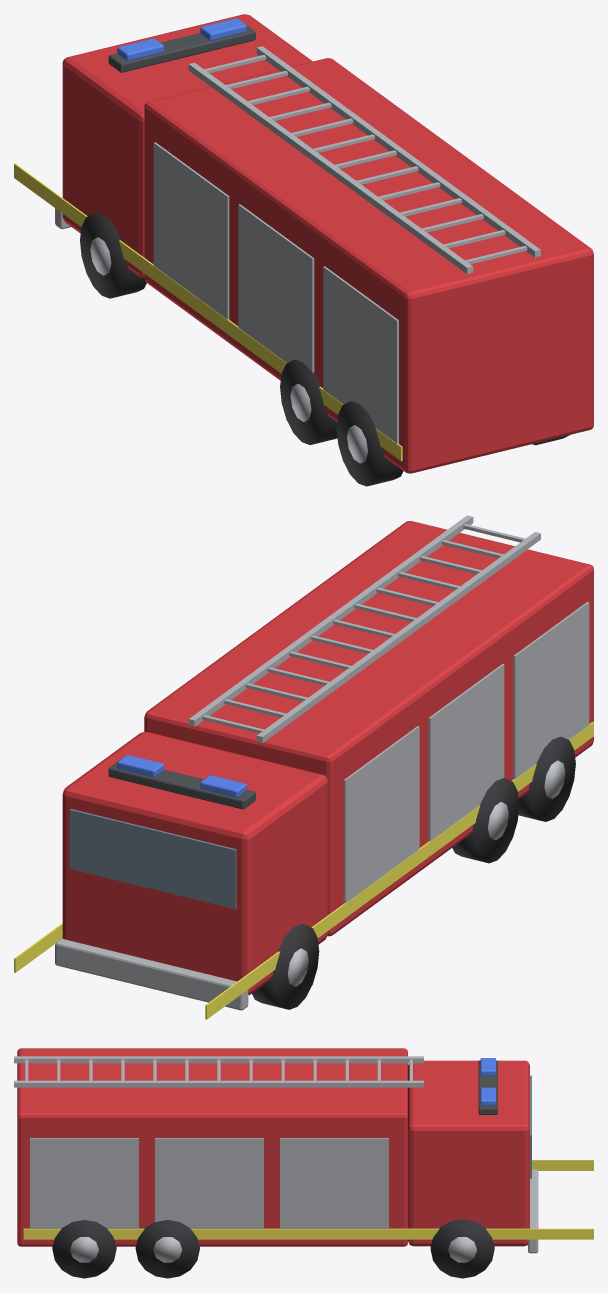
Rendered from FireTruck.fbx.
3 renders of one model, top to bottom at view 1: azimuth 30°, elevation 25°; view 2: azimuth 150°, elevation 25°; view 3: azimuth 270°, elevation 25°, orthographic. The views are drawn at different scales.
Parts seen in each view (by area): view 1: Fire_Body, Fire_Cab, Fire_LockerL2, Fire_LockerL1, Fire_LockerL0, Fire_StripeL, Fire_LadderRailL, Fire_LadderRailR, Fire_Wheel0, Fire_Wheel4, Fire_Wheel2, Fire_LightBar (+2 smaller); view 2: Fire_Body, Fire_Cab, Fire_Windscreen, Fire_LockerL2, Fire_LockerL1, Fire_LockerL0, Fire_Bumper, Fire_StripeL, Fire_LadderRailL, Fire_LadderRailR, Fire_Wheel0, Fire_Wheel2 (+5 smaller); view 3: Fire_Body, Fire_Cab, Fire_LockerR2, Fire_LockerR1, Fire_LockerR0, Fire_StripeR, Fire_LadderRailR, Fire_LadderRailL, Fire_Wheel1, Fire_Wheel3, Fire_Wheel5, Fire_Bumper (+5 smaller).
Boxes of the visible parts, left/top/right/bottom form: Fire_Body: left=144, top=58, right=593, bottom=473; Fire_Cab: left=62, top=14, right=312, bottom=278; Fire_LockerL2: left=153, top=142, right=229, bottom=319; Fire_LockerL1: left=238, top=204, right=314, bottom=372; Fire_LockerL0: left=323, top=266, right=398, bottom=443; Fire_StripeL: left=14, top=163, right=402, bottom=461; Fire_LadderRailL: left=188, top=62, right=473, bottom=273; Fire_LadderRailR: left=256, top=46, right=540, bottom=257; Fire_Wheel0: left=80, top=213, right=146, bottom=298; Fire_Wheel4: left=336, top=401, right=403, bottom=486; Fire_Wheel2: left=280, top=359, right=337, bottom=444; Fire_LightBar: left=108, top=23, right=255, bottom=72; Fire_Body: left=144, top=521, right=593, bottom=936; Fire_Cab: left=62, top=732, right=327, bottom=995; Fire_Windscreen: left=69, top=809, right=236, bottom=909; Fire_LockerL2: left=343, top=726, right=419, bottom=903; Fire_LockerL1: left=428, top=664, right=504, bottom=841; Fire_LockerL0: left=513, top=602, right=589, bottom=779; Fire_Bumper: left=55, top=938, right=248, bottom=1010; Fire_StripeL: left=205, top=722, right=593, bottom=1019; Fire_LadderRailL: left=256, top=532, right=540, bottom=743; Fire_LadderRailR: left=188, top=515, right=473, bottom=726; Fire_Wheel0: left=252, top=924, right=319, bottom=1009; Fire_Wheel2: left=452, top=778, right=519, bottom=863; Fire_Body: left=17, top=1048, right=407, bottom=1246; Fire_Cab: left=408, top=1060, right=529, bottom=1246; Fire_LockerR2: left=280, top=1138, right=388, bottom=1228; Fire_LockerR1: left=155, top=1138, right=263, bottom=1228; Fire_LockerR0: left=30, top=1138, right=138, bottom=1228; Fire_StripeR: left=23, top=1228, right=593, bottom=1239; Fire_LadderRailR: left=14, top=1080, right=423, bottom=1087; Fire_LadderRailL: left=14, top=1056, right=423, bottom=1063; Fire_Wheel1: left=430, top=1219, right=494, bottom=1278; Fire_Wheel3: left=135, top=1220, right=199, bottom=1278; Fire_Wheel5: left=52, top=1220, right=116, bottom=1278; Fire_Bumper: left=528, top=1169, right=538, bottom=1253.
Size of the model in its own units: 2.64 by 2.99 by 9.05.
